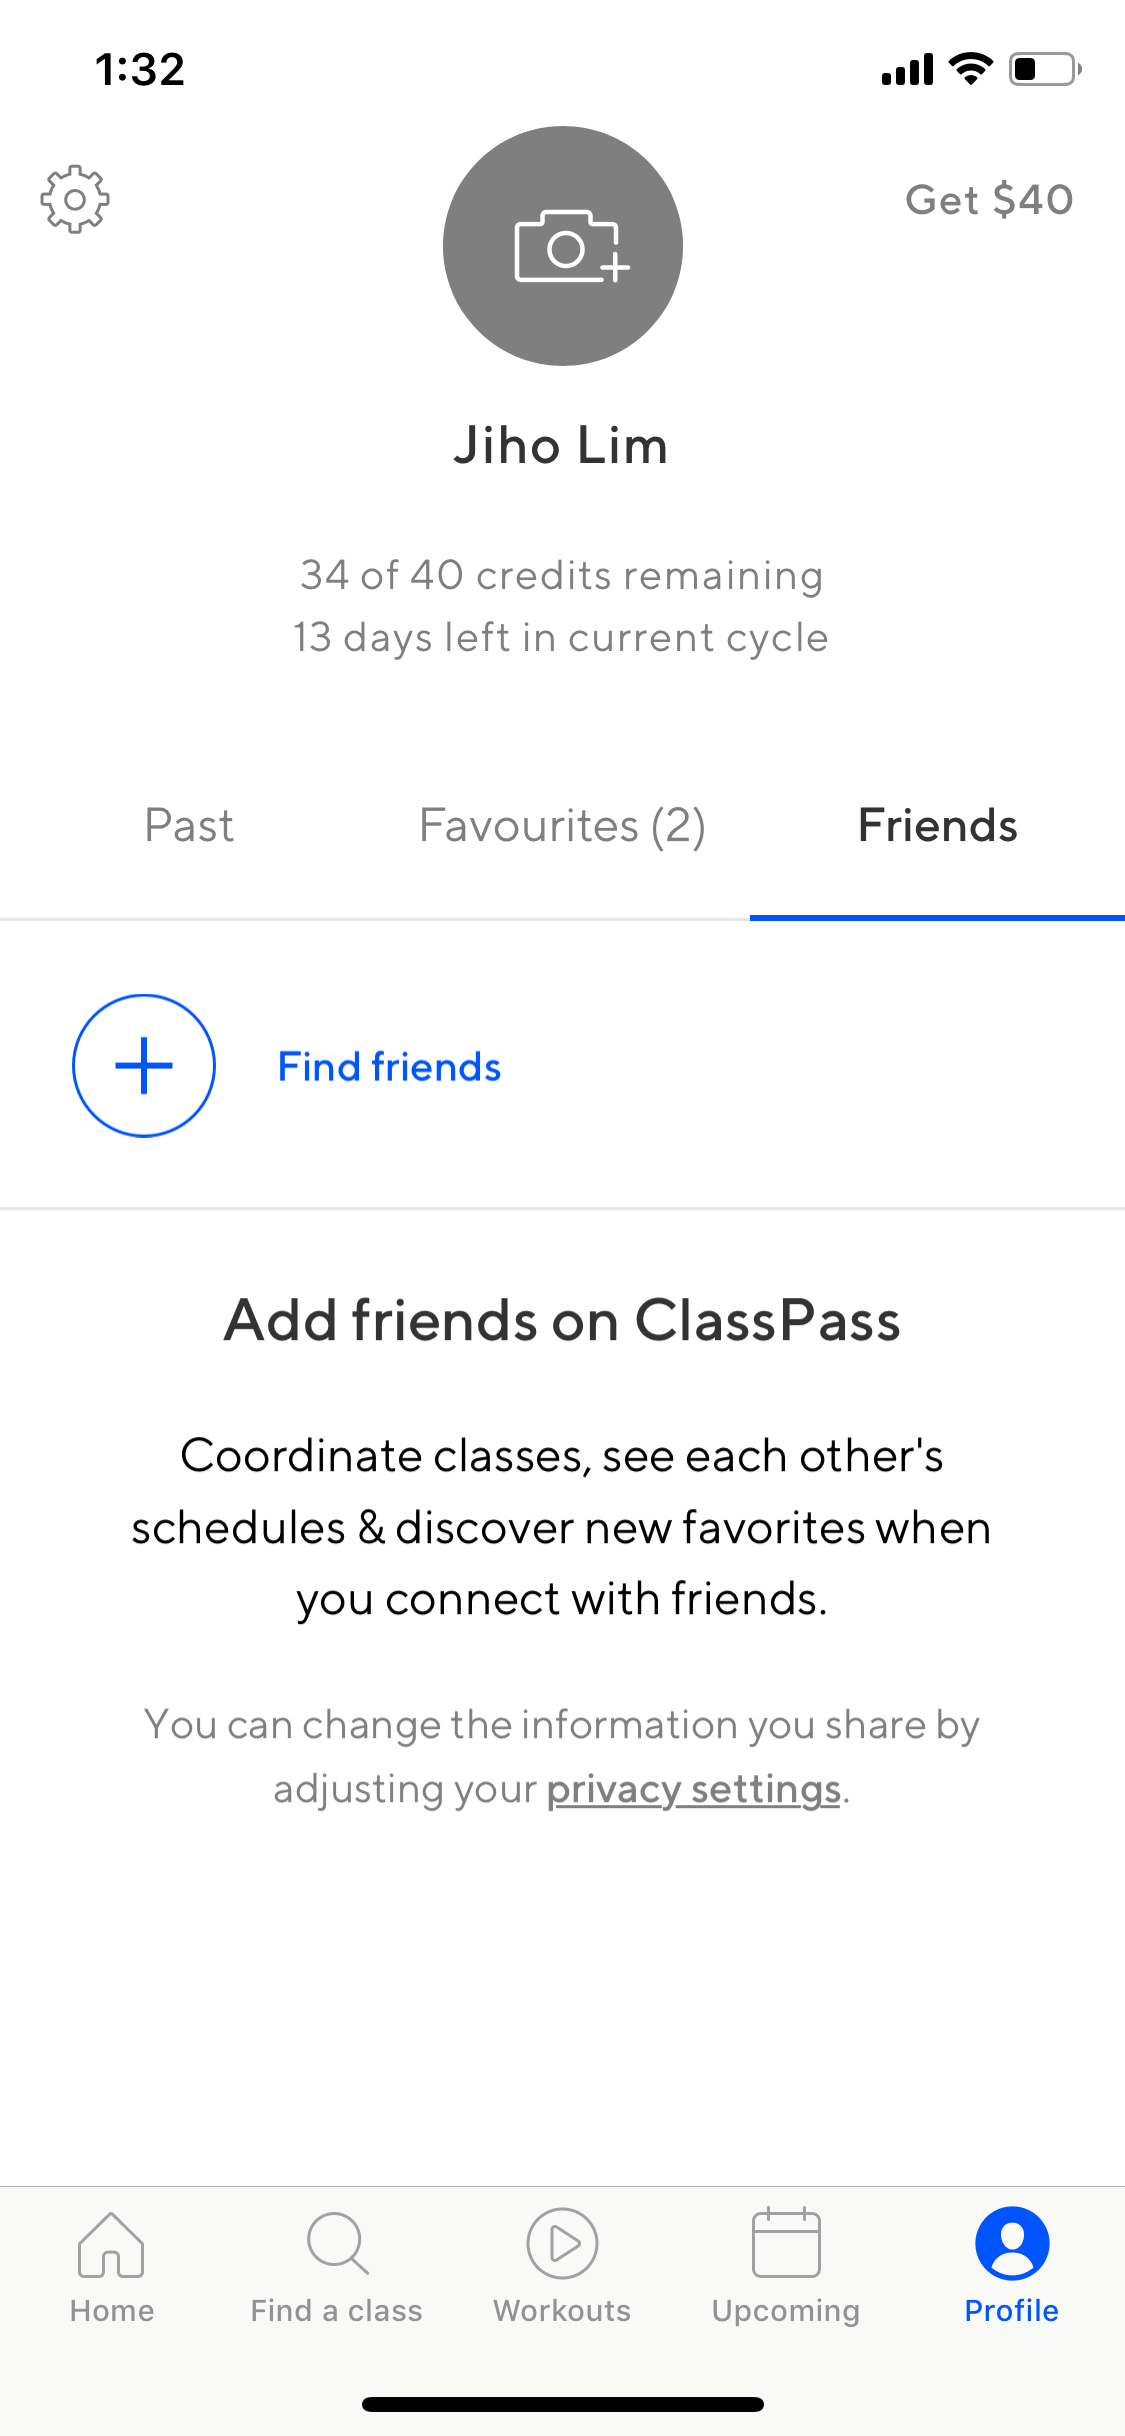Buttons: (56, 973, 239, 1157), (2, 141, 148, 280)
